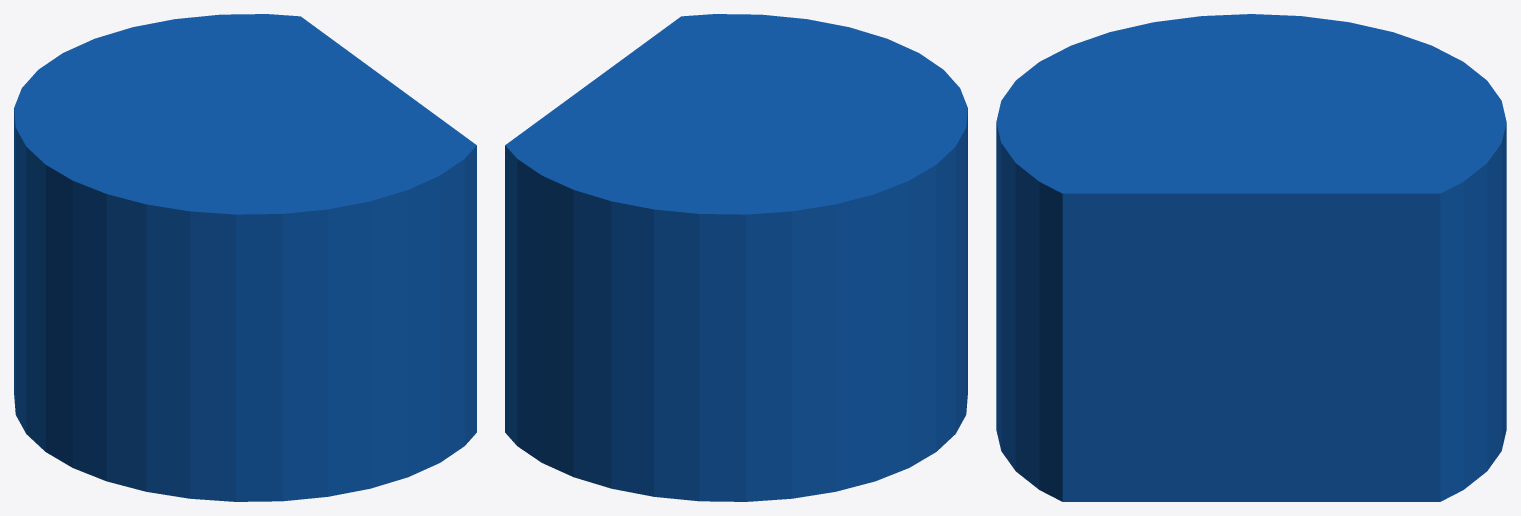
Rendered from robot_marker_blue.dae.
3 views of the same model, side by side, from view 1: azimuth 30°, elevation 25°; view 2: azimuth 150°, elevation 25°; view 3: azimuth 270°, elevation 25° (orthographic). The views are drawn at different scales.
Parts seen in each view (by area): view 1: Cylinder; view 2: Cylinder; view 3: Cylinder.
Boxes of the visible parts, x1,y1,x2,y2 form: Cylinder: [14, 14, 476, 501]; Cylinder: [505, 14, 967, 501]; Cylinder: [996, 14, 1506, 501].
Bounding box in the file's own units: 0.25 × 0.3 × 0.2.
